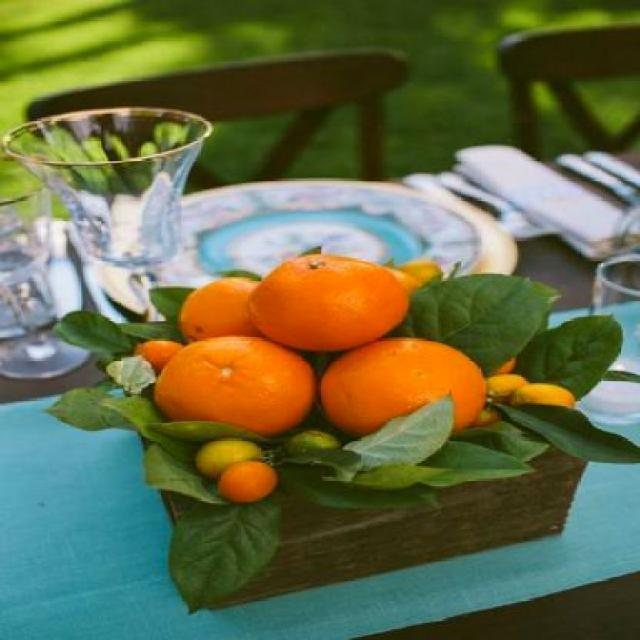Jeruk Sudah Matang: (322, 342, 484, 452), (252, 255, 411, 357), (156, 338, 319, 436), (182, 275, 298, 383)
